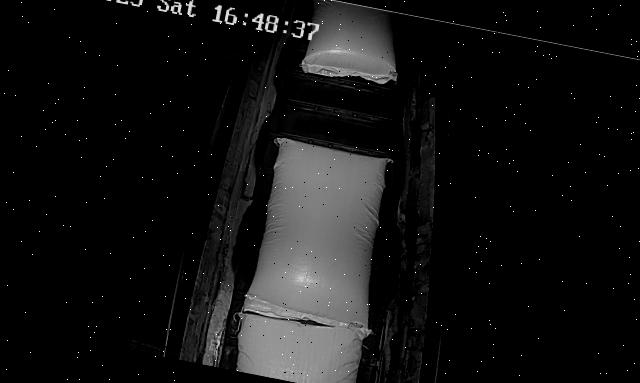bag: (242, 135, 402, 336), (227, 304, 368, 383), (299, 0, 409, 89)
